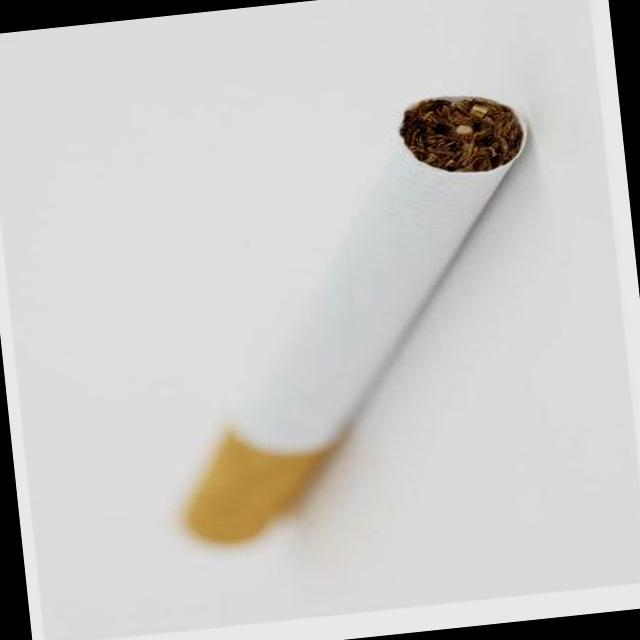cigarette: (135, 79, 580, 556)
